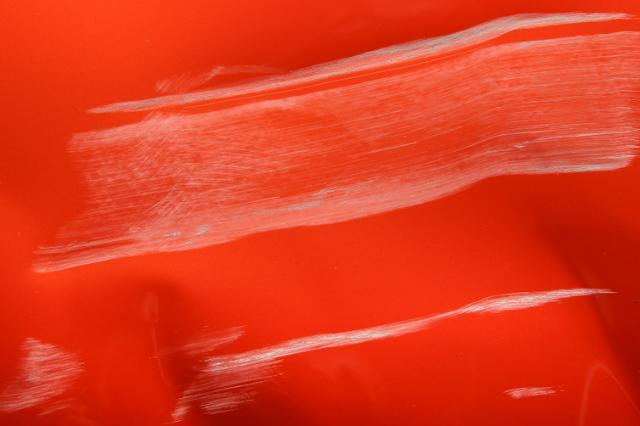Door: (0, 10, 640, 426)
